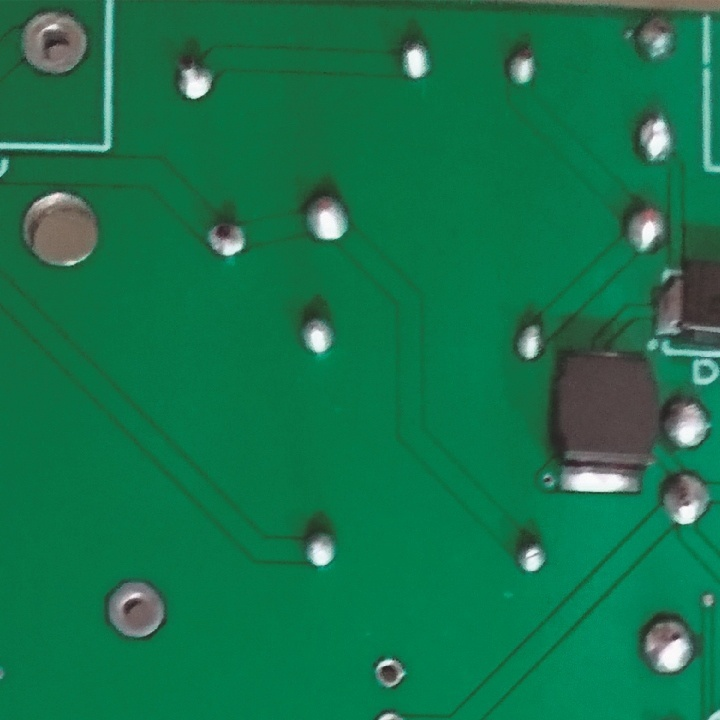F: (17, 8, 90, 76), (102, 576, 168, 643), (373, 654, 405, 690)
